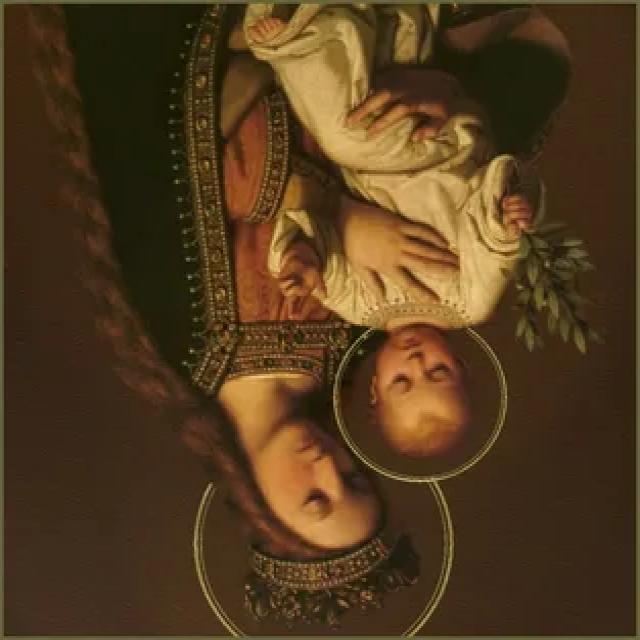mother of god: (61, 0, 552, 610)
